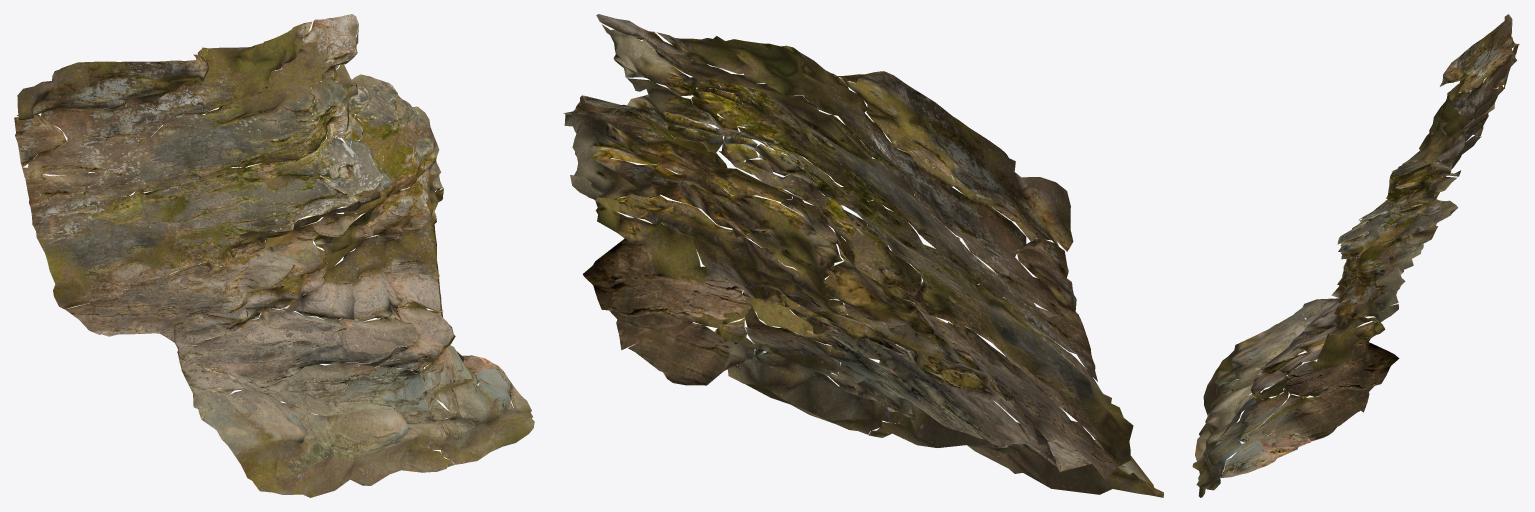
File: rock_face_02.glb
3 renders of one model, left to right at view 1: azimuth 30°, elevation 25°; view 2: azimuth 150°, elevation 25°; view 3: azimuth 270°, elevation 25°, orthographic. The views are drawn at different scales.
Parts seen in each view (by area): view 1: rock_face_02_LOD0; view 2: rock_face_02_LOD0; view 3: rock_face_02_LOD0.
Part boxes in pixels (<box>): rock_face_02_LOD0: <box>14,14,534,497</box>; rock_face_02_LOD0: <box>563,14,1163,497</box>; rock_face_02_LOD0: <box>1192,14,1519,497</box>.
Size of what is drawn, in the model's own units: 1 by 0.9158 by 0.789.
1 material, 1 textured.
